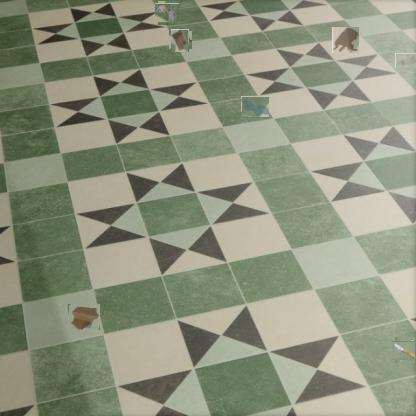dirty: (68, 304, 100, 330), (394, 339, 416, 362), (157, 2, 178, 24), (170, 30, 191, 51), (397, 50, 416, 70)
liquid: (333, 27, 359, 54), (241, 96, 269, 117)
